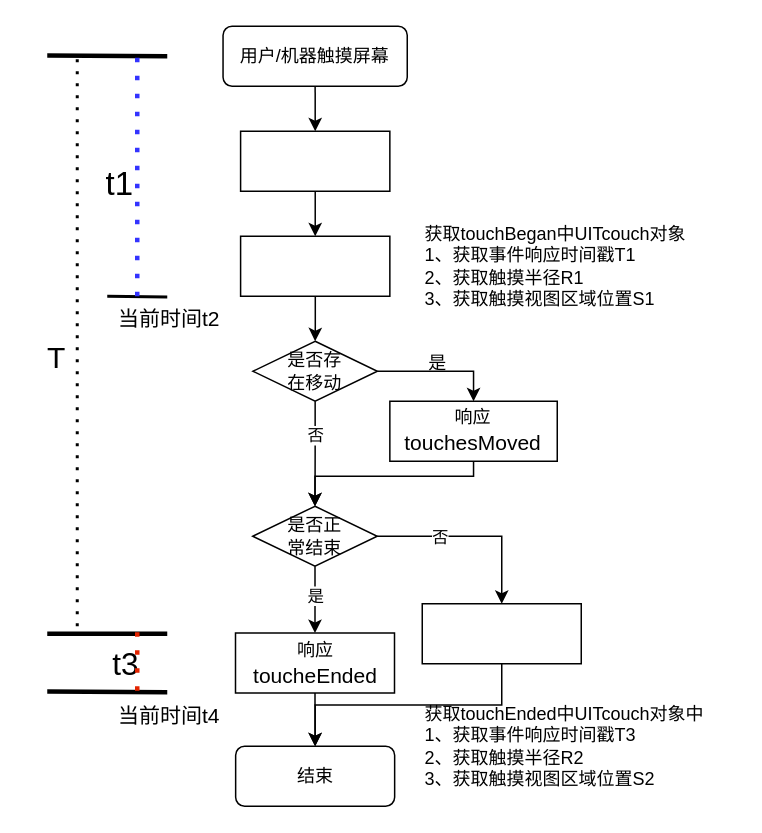
Image size: 762x833. Some labels were removed from this diagram. Here are the shapes that lost their labels. From the top down, the box of each, then its label:
(239, 130, 390, 191): 生成UITouch对象
(239, 235, 390, 296): 响应 touchesBegan
(421, 602, 581, 664): 响应 touchesCanceled
